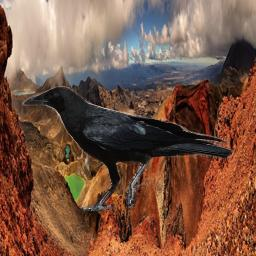Crow: (22, 84, 232, 211)
